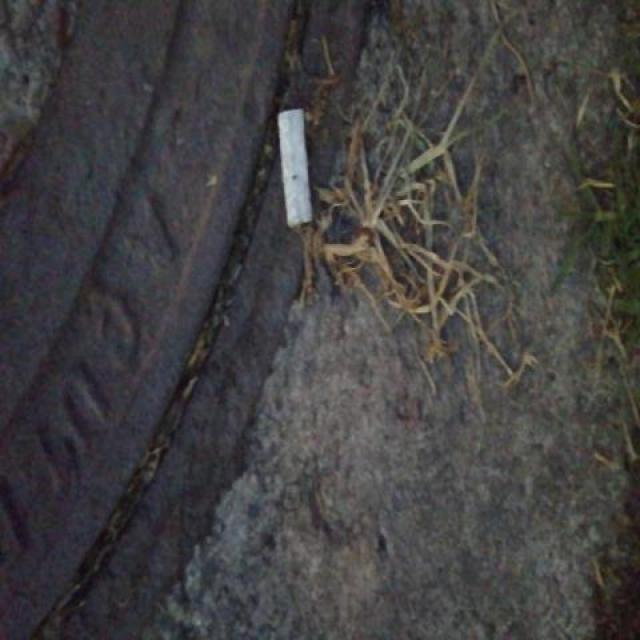non-organic waste: (271, 105, 318, 232)
